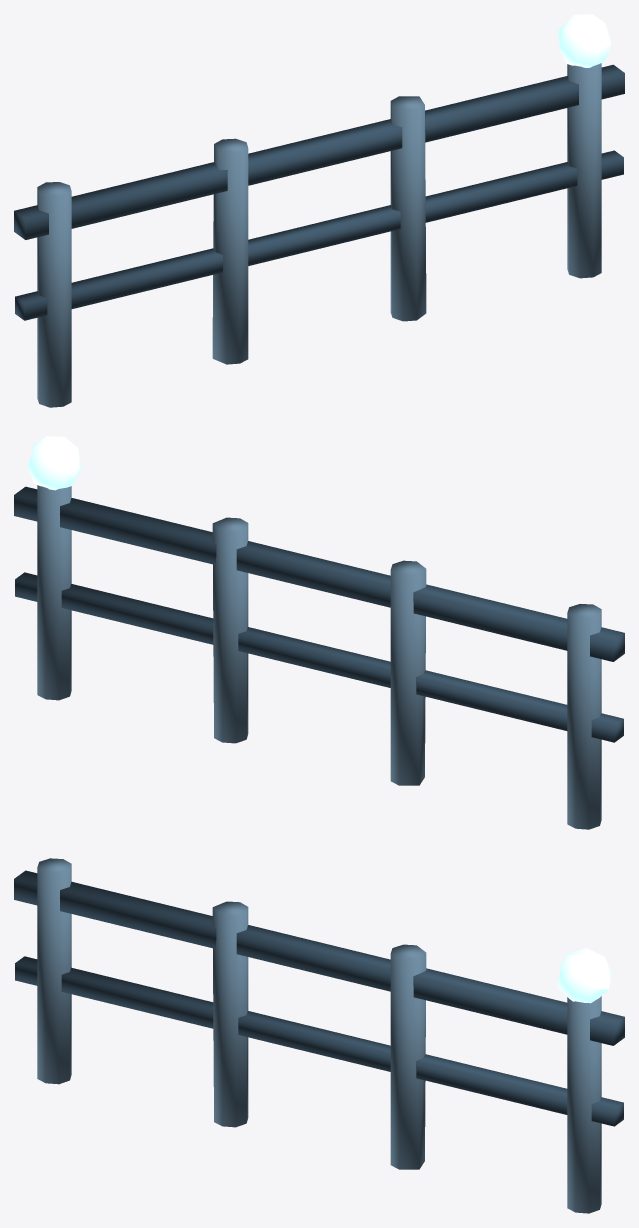
File: SM_Rheinufer_Railing_LOD3.fbx
3 renders of one model, top to bottom at view 1: azimuth 30°, elevation 25°; view 2: azimuth 150°, elevation 25°; view 3: azimuth 330°, elevation 25°, orthographic.
Visible parts, largest first — view 1: SM_Rheinufer_Railing_LOD3; view 2: SM_Rheinufer_Railing_LOD3; view 3: SM_Rheinufer_Railing_LOD3.
Boxes of the visible parts, x1=… form: SM_Rheinufer_Railing_LOD3: x1=14, y1=14, x2=624, y2=407; SM_Rheinufer_Railing_LOD3: x1=14, y1=436, x2=624, y2=829; SM_Rheinufer_Railing_LOD3: x1=14, y1=858, x2=624, y2=1213.
Size of the model in its own units: 3.39 by 1.38 by 0.2747.
